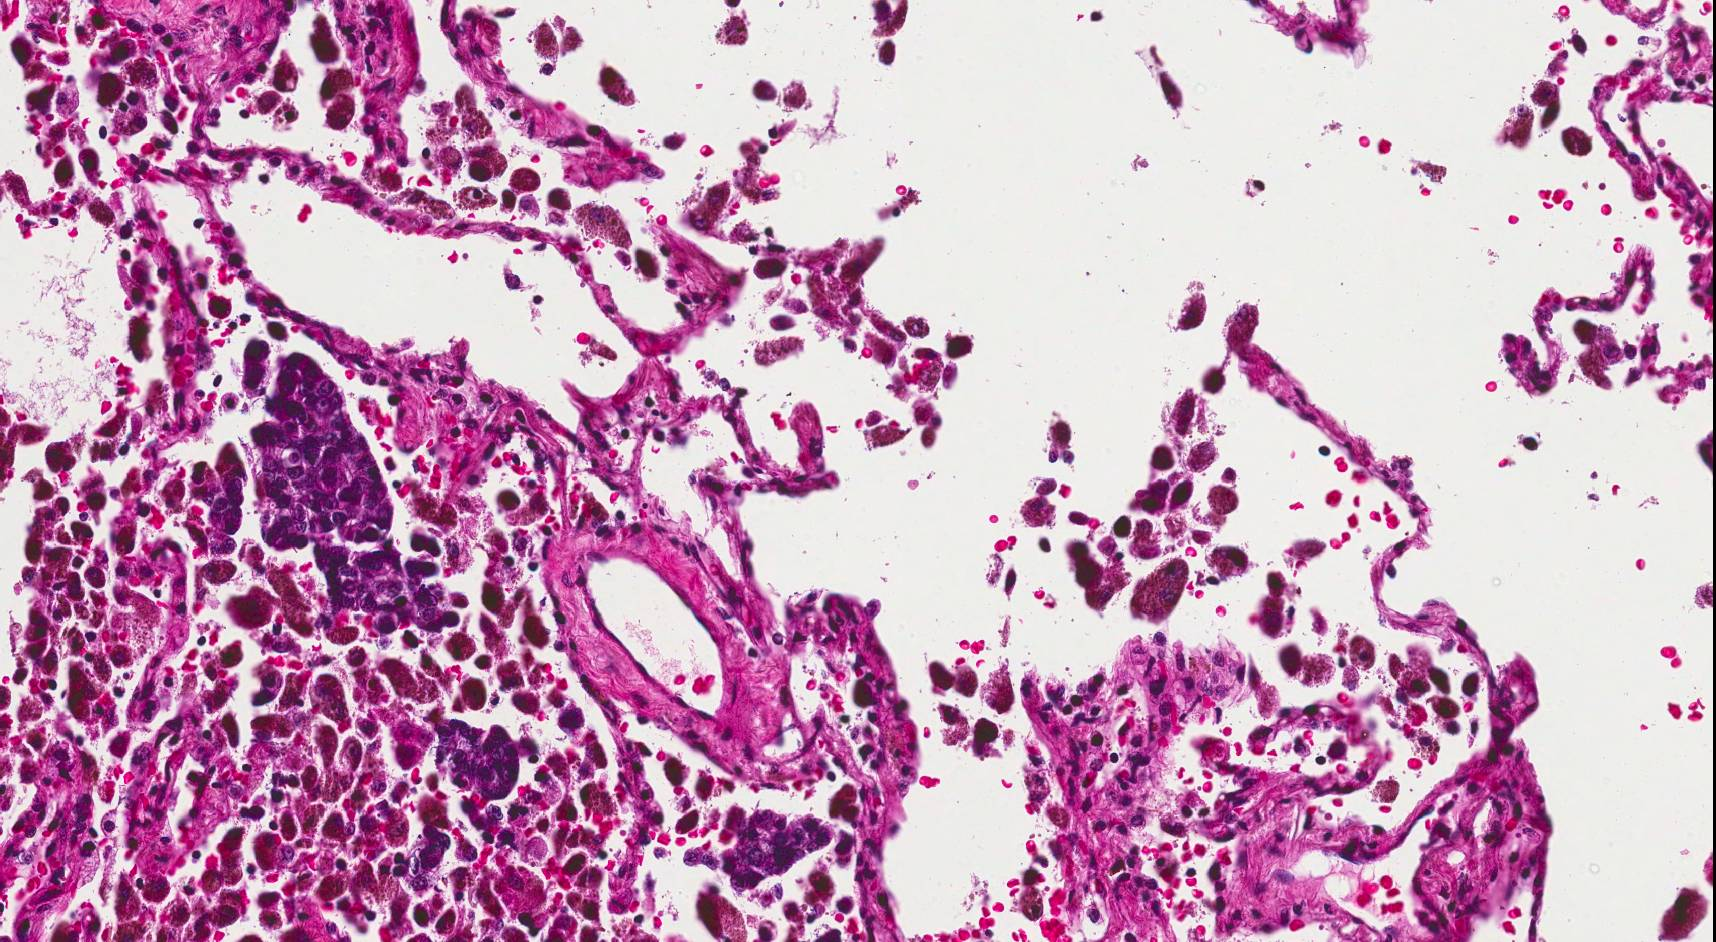stas: (244, 346, 469, 633), (723, 805, 836, 892), (425, 706, 521, 805), (407, 826, 447, 898)
